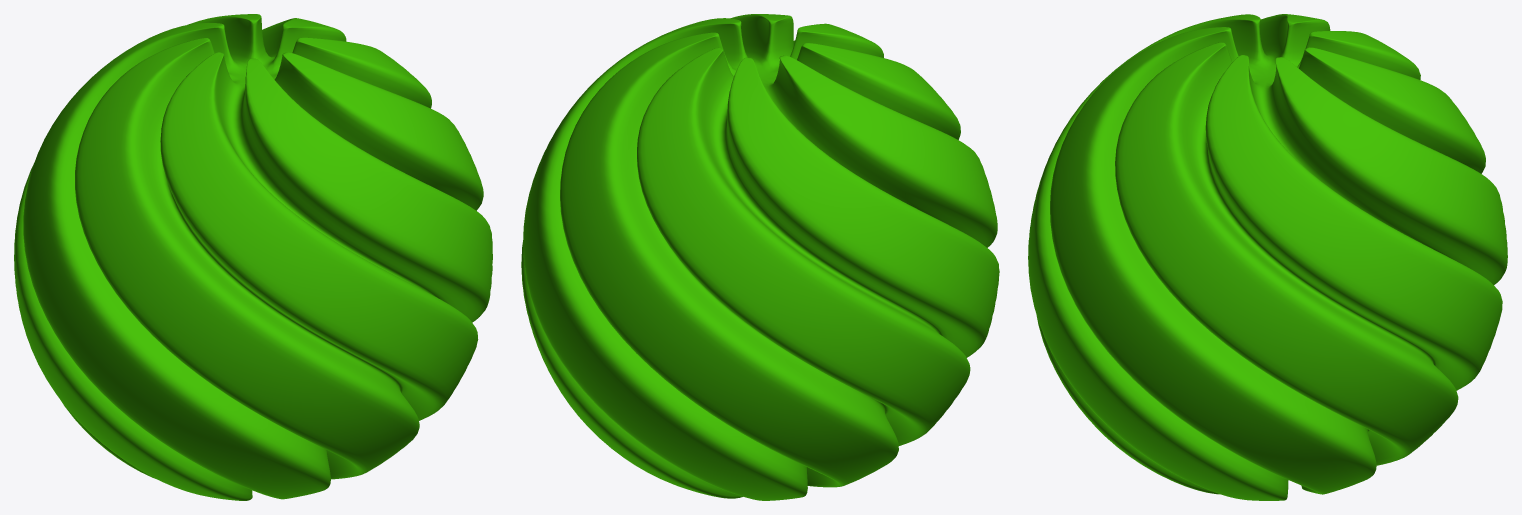
The model's file is dark_green_glass_spiral.glb.
3 renders of one model, left to right at view 1: azimuth 30°, elevation 25°; view 2: azimuth 150°, elevation 25°; view 3: azimuth 270°, elevation 25°, orthographic.
Visible parts, largest first — view 1: Sphere.043; view 2: Sphere.043; view 3: Sphere.043.
Boxes of the visible parts, bbox=[...] form: Sphere.043: bbox=[14, 14, 492, 500]; Sphere.043: bbox=[521, 14, 999, 500]; Sphere.043: bbox=[1028, 14, 1507, 500].
Size of the model in its own units: 1.95 by 1.96 by 1.95.
